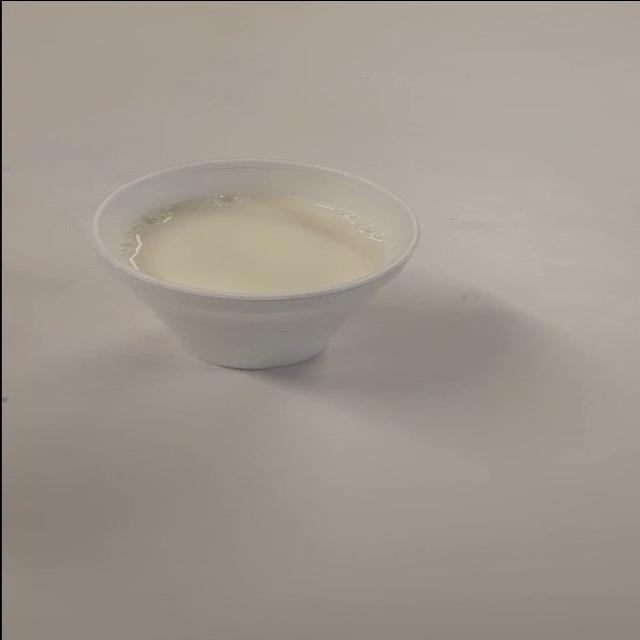Milk: (78, 143, 454, 388)
